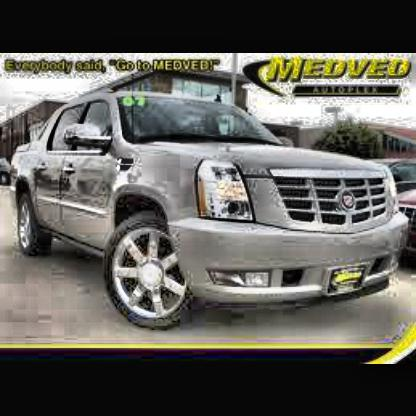Cadillac Escalade EXT Crew Cab 2007: (11, 93, 414, 333)
